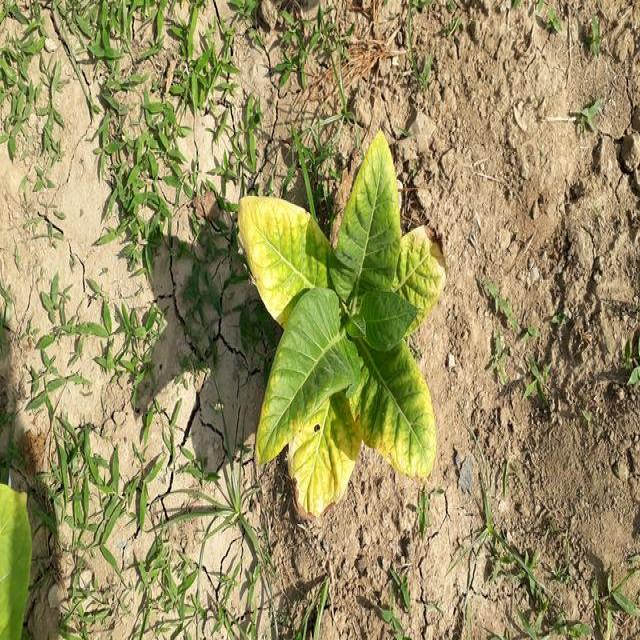crop: (243, 136, 436, 512)
